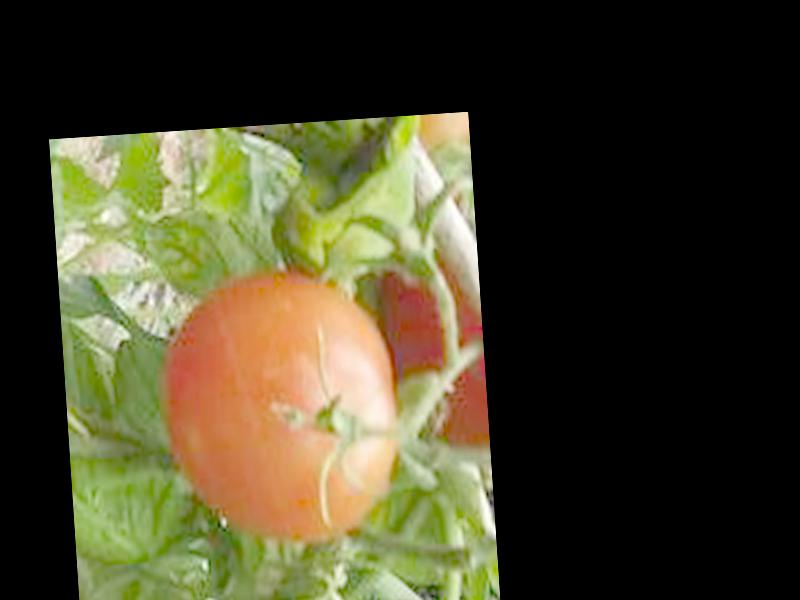Tomato: (163, 268, 405, 547)
